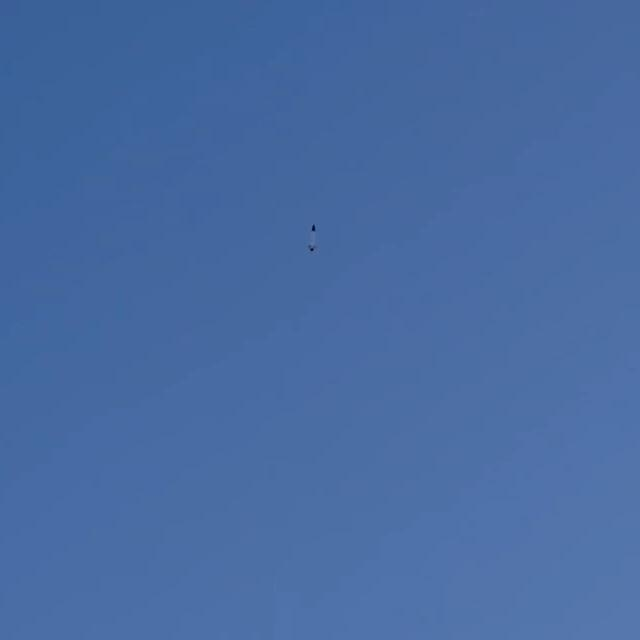rocket: (307, 224, 316, 253)
